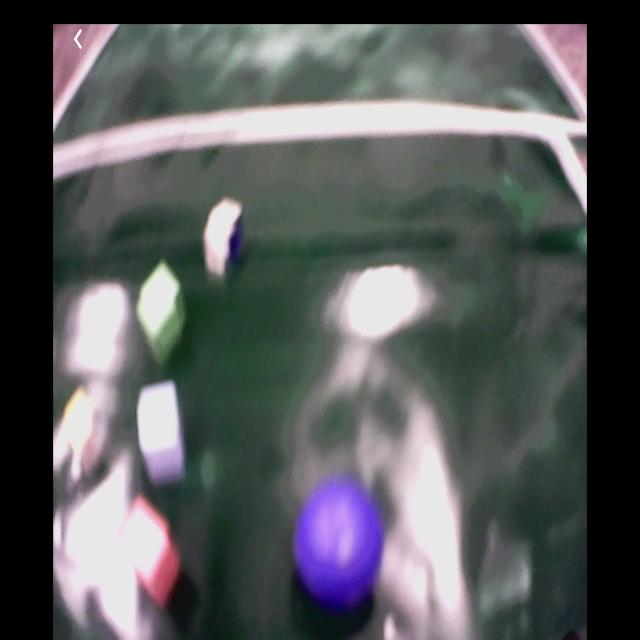ball: (297, 470, 382, 603)
